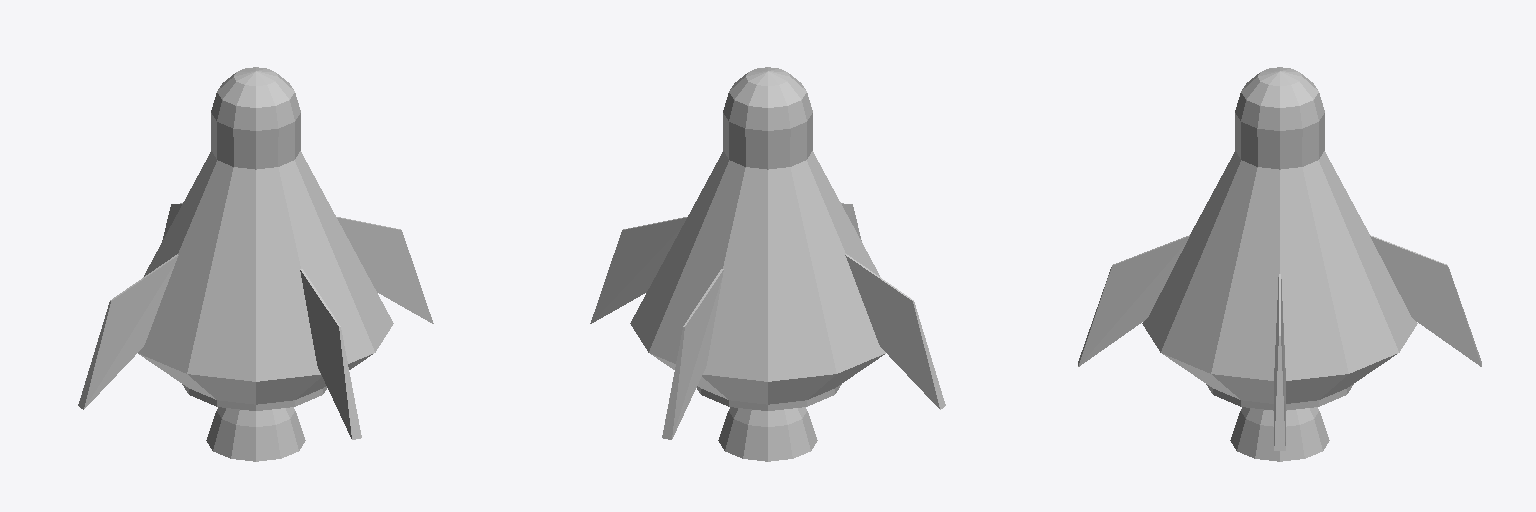
Rendered from shuttlecock.obj.
3 views of the same model, side by side, from view 1: azimuth 30°, elevation 25°; view 2: azimuth 150°, elevation 25°; view 3: azimuth 270°, elevation 25° (orthographic).
Parts seen in each view (by area): view 1: rocket_Sphere.001; view 2: rocket_Sphere.001; view 3: rocket_Sphere.001.
Part boxes in pixels (left/top/right/bottom): rocket_Sphere.001: left=78, top=67, right=433, bottom=461; rocket_Sphere.001: left=590, top=67, right=945, bottom=461; rocket_Sphere.001: left=1078, top=67, right=1481, bottom=461.
Size of the model in its own units: 3.69 by 3.72 by 3.69.